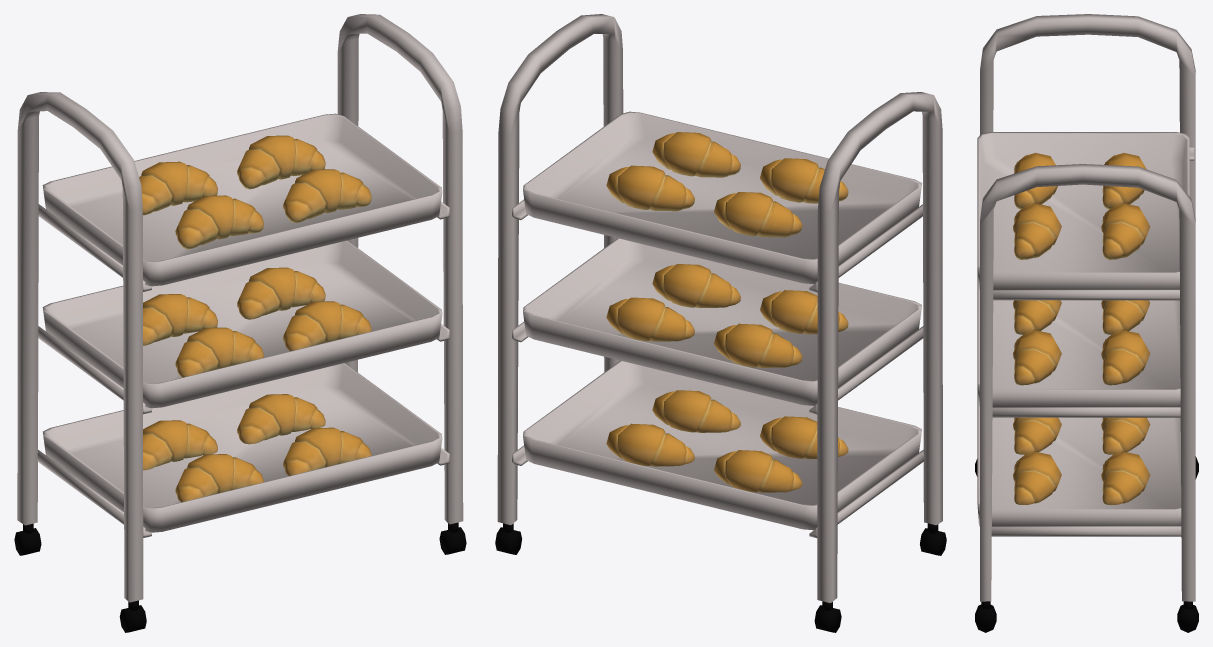
The model's file is Model_BakingTray.fbx.
The picture shows the model from 3 angles, left to right: view 1: azimuth 30°, elevation 25°; view 2: azimuth 150°, elevation 25°; view 3: azimuth 270°, elevation 25°; orthographic projection. The views are drawn at different scales.
Parts seen in each view (by area): view 1: Baking trolley; view 2: Baking trolley; view 3: Baking trolley.
Boxes of the visible parts, <box> form: Baking trolley: <box>14,14,466,632</box>; Baking trolley: <box>495,14,946,632</box>; Baking trolley: <box>975,14,1198,632</box>.
Bounding box in the file's own units: 205 × 281 × 123.
